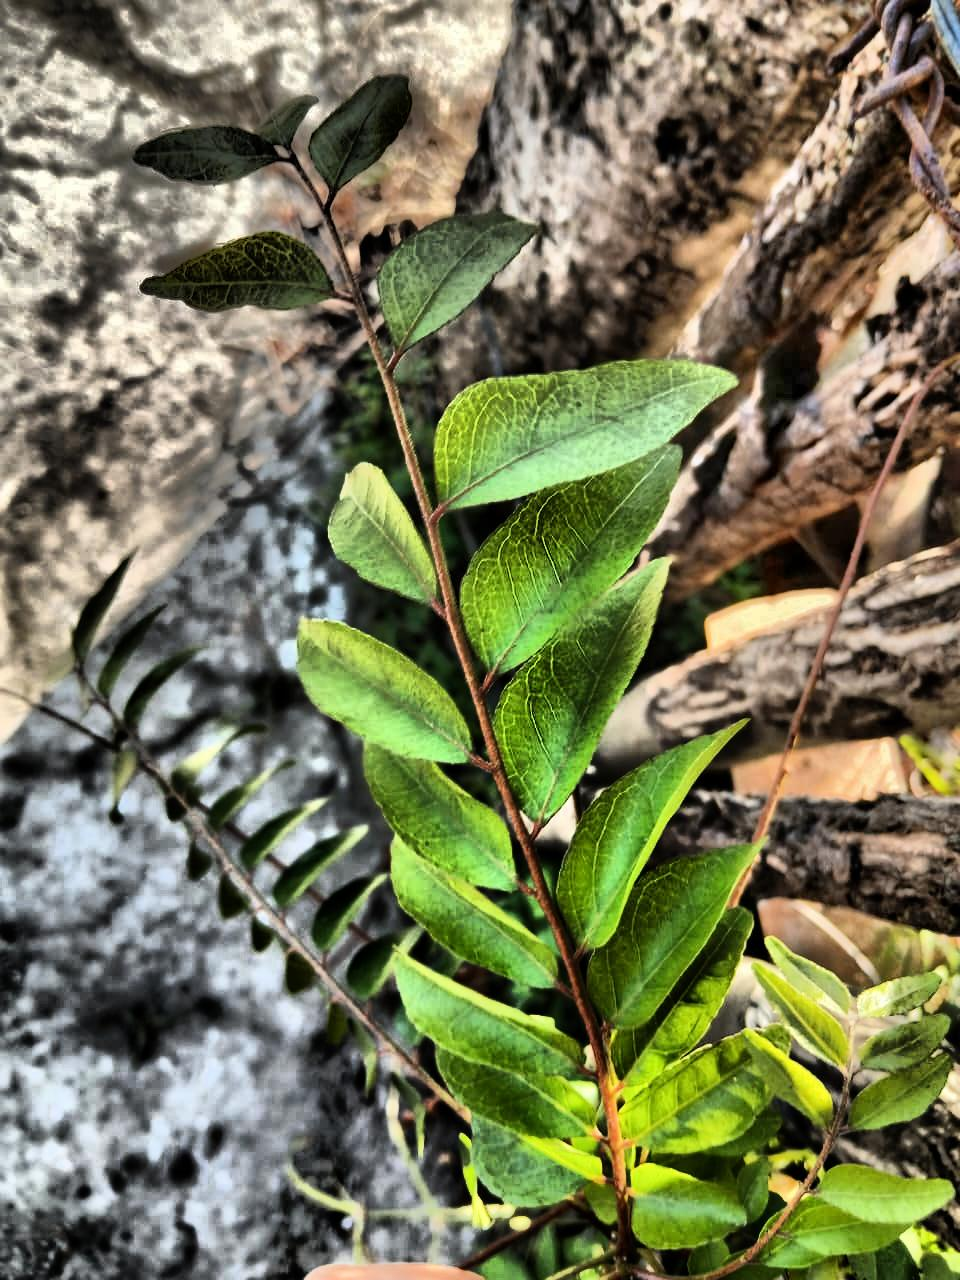daun kari: (297, 359, 918, 1279), (142, 77, 535, 411)
